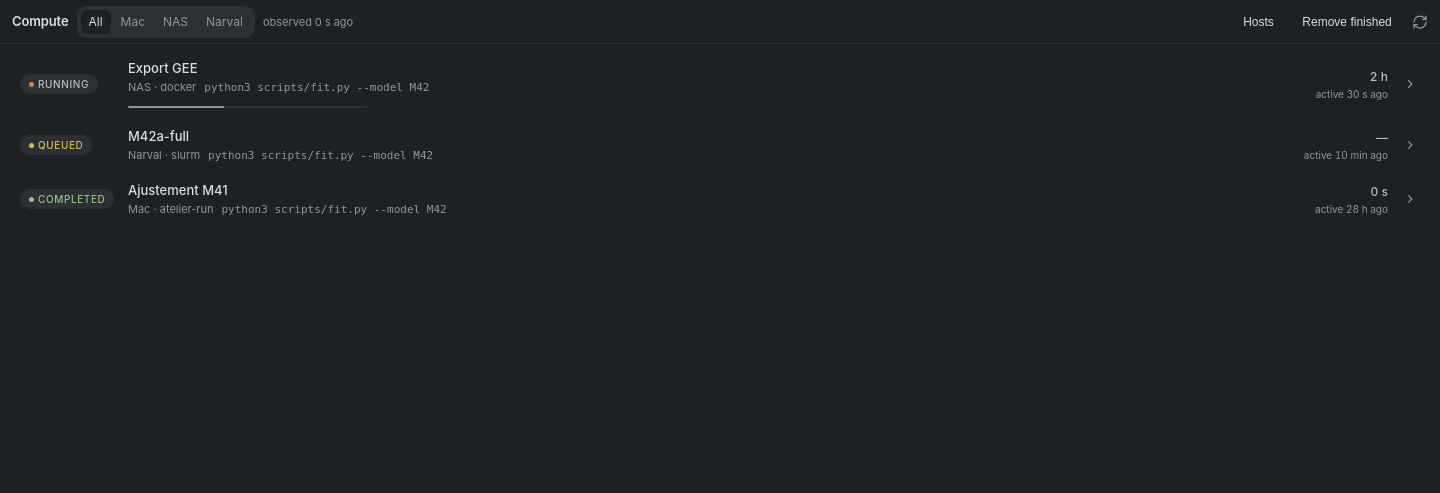
CalculsSurface › « Log complet » bascule sur l'onglet Log et demande le journal
Click the button with class "calculs-run-head" that starts with "completed": (67, 199) [8, 174, 1432, 224]
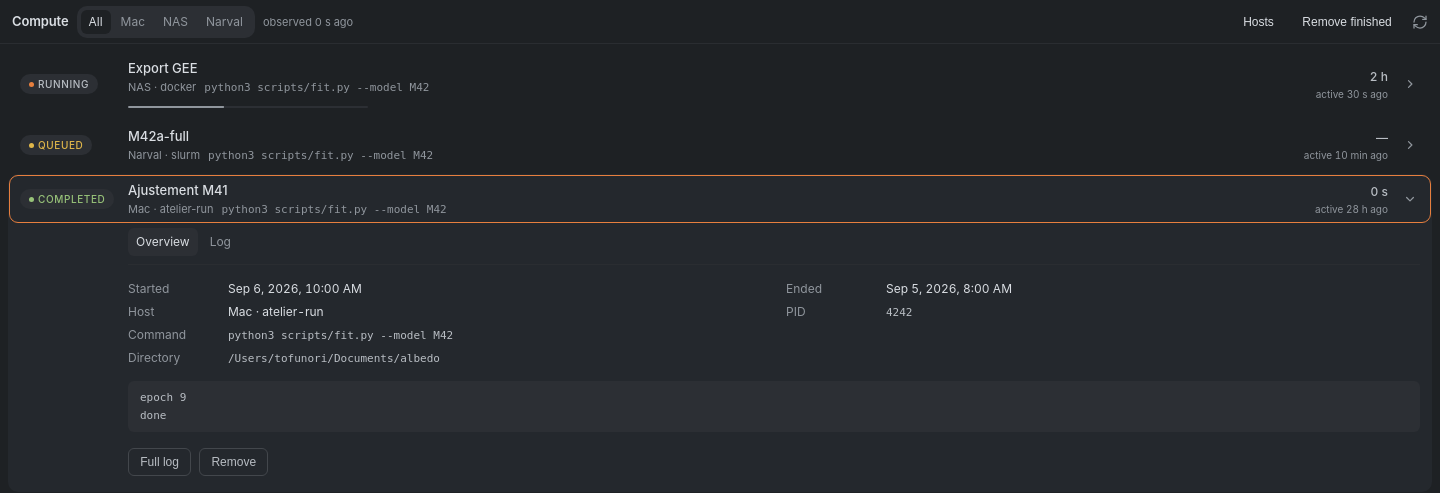
Click the button "Full log": (160, 462) [128, 448, 191, 476]
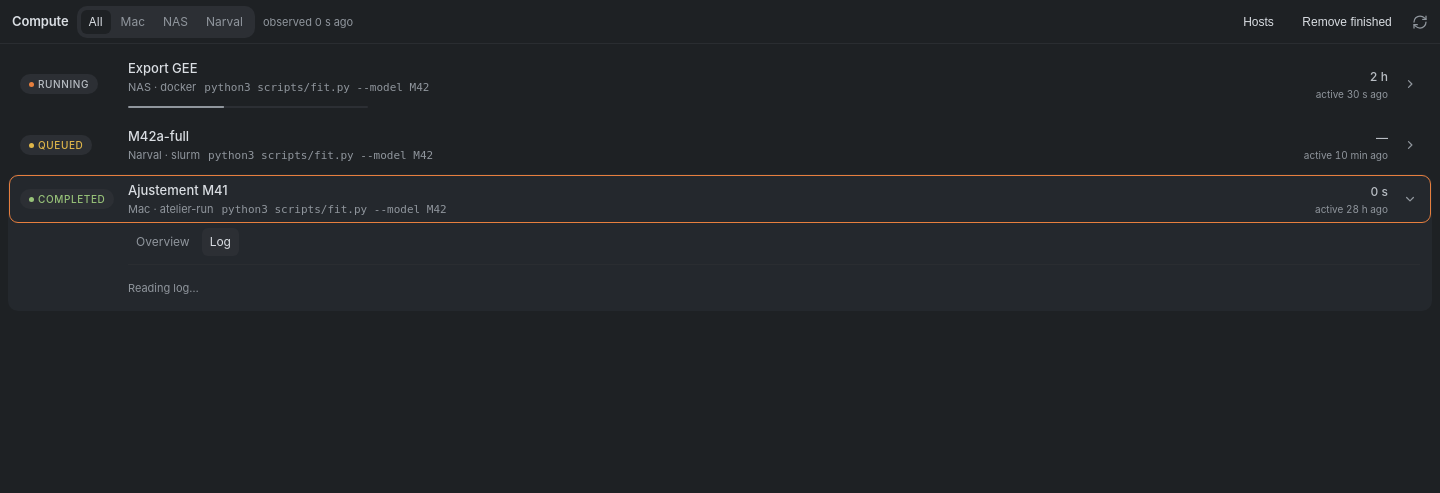
Expected: the text "Reading log…" is shown, [128, 281, 199, 295]
